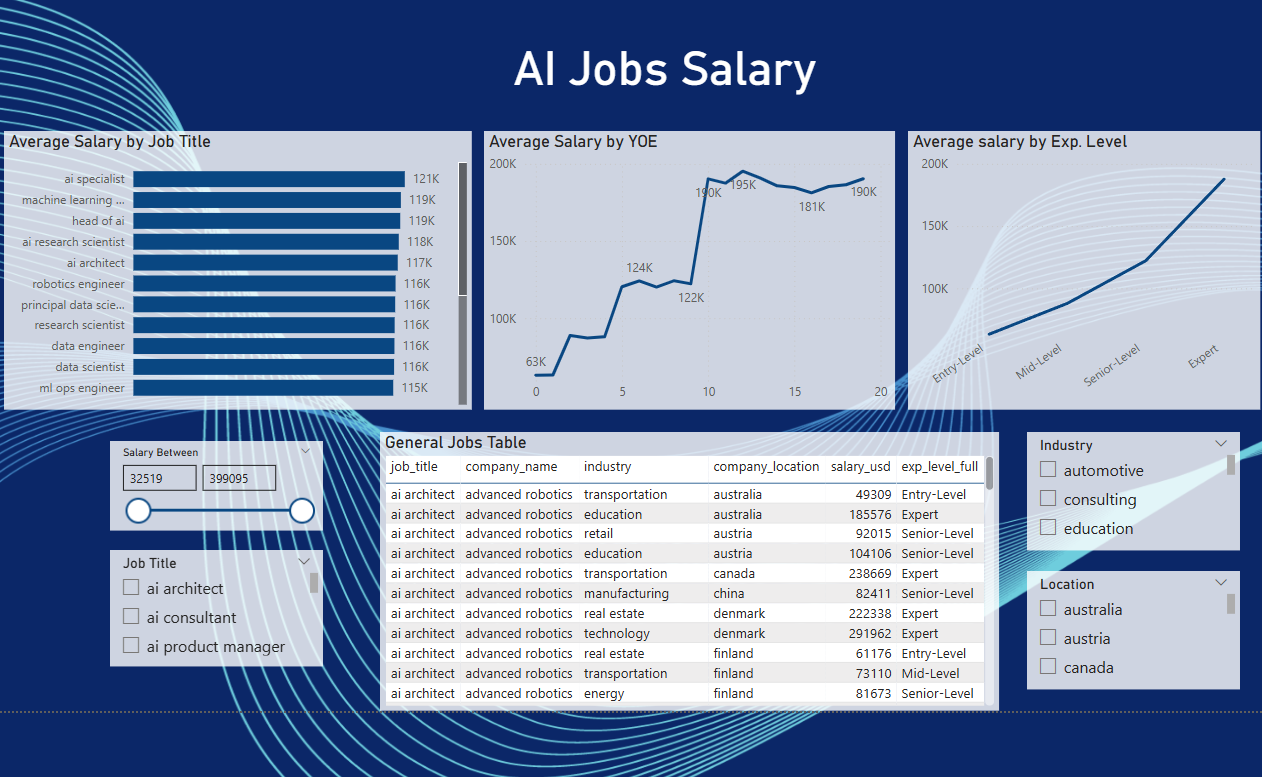

The page's visual inventory and layout, read from the dashboard file:
{"tool":"powerbi","page":{"name":"Salary","canvas":[1280,720],"ordinal":1},"visuals":[{"type":"clusteredBarChart","title":"Average Salary by Job Title","fields":{"Category":["transformed_ai_jobs_data.job_title"],"Y":["Avg(transformed_ai_jobs_data.salary_usd)"]},"box":[9.7,138.1,469.8,280.1],"z":0},{"type":"textbox","title":"AI Jobs Salary","box":[408.5,45.7,531.1,58.4],"z":1000},{"type":"lineChart","title":"Average Salary by YOE","fields":{"Category":["transformed_ai_jobs_data.years_experience"],"Y":["Avg(transformed_ai_jobs_data.salary_usd)"]},"box":[492.2,138.1,413.4,280.1],"z":2000},{"type":"tableEx","title":"General Jobs Table","fields":{"Values":["transformed_ai_jobs_data.job_title","transformed_ai_jobs_data.company_name","transformed_ai_jobs_data.industry","transformed_ai_jobs_data.company_location","transformed_ai_jobs_data.salary_usd","transformed_ai_jobs_data.exp_level_full"]},"box":[388.1,439.6,621.5,280.1],"z":3000},{"type":"slicer","fields":{"Values":["transformed_ai_jobs_data.salary_usd"]},"box":[116.7,449.4,214,90.5],"z":4000},{"type":"lineChart","title":"Average salary by Exp. Level","fields":{"Y":["Avg(transformed_ai_jobs_data.salary_usd)"],"Category":["transformed_ai_jobs_data.exp_level_full"]},"box":[918.2,138.1,354,280.1],"z":5000},{"type":"slicer","fields":{"Values":["transformed_ai_jobs_data.job_title"]},"box":[116.7,558.3,214,116.7],"z":6000},{"type":"slicer","fields":{"Values":["transformed_ai_jobs_data.industry"]},"box":[1037.8,439.6,214,118.7],"z":7000},{"type":"slicer","fields":{"Values":["transformed_ai_jobs_data.company_location"]},"box":[1037.8,579.7,214,118.7],"z":8000}]}

Visuals, with their boxes in screenshot pixels (x1, y1, x2, y2):
"Average Salary by Job Title" clusteredBarChart: [x1=0, y1=126, x2=464, y2=408]
"AI Jobs Salary" textbox: [x1=392, y1=33, x2=927, y2=92]
"Average Salary by YOE" lineChart: [x1=476, y1=126, x2=893, y2=408]
"General Jobs Table" tableEx: [x1=372, y1=430, x2=998, y2=712]
slicer - transformed_ai_jobs_data.salary_usd: [x1=98, y1=440, x2=314, y2=531]
"Average salary by Exp. Level" lineChart: [x1=906, y1=126, x2=1261, y2=408]
slicer - transformed_ai_jobs_data.job_title: [x1=98, y1=550, x2=314, y2=667]
slicer - transformed_ai_jobs_data.industry: [x1=1026, y1=430, x2=1242, y2=550]
slicer - transformed_ai_jobs_data.company_location: [x1=1026, y1=571, x2=1242, y2=691]
